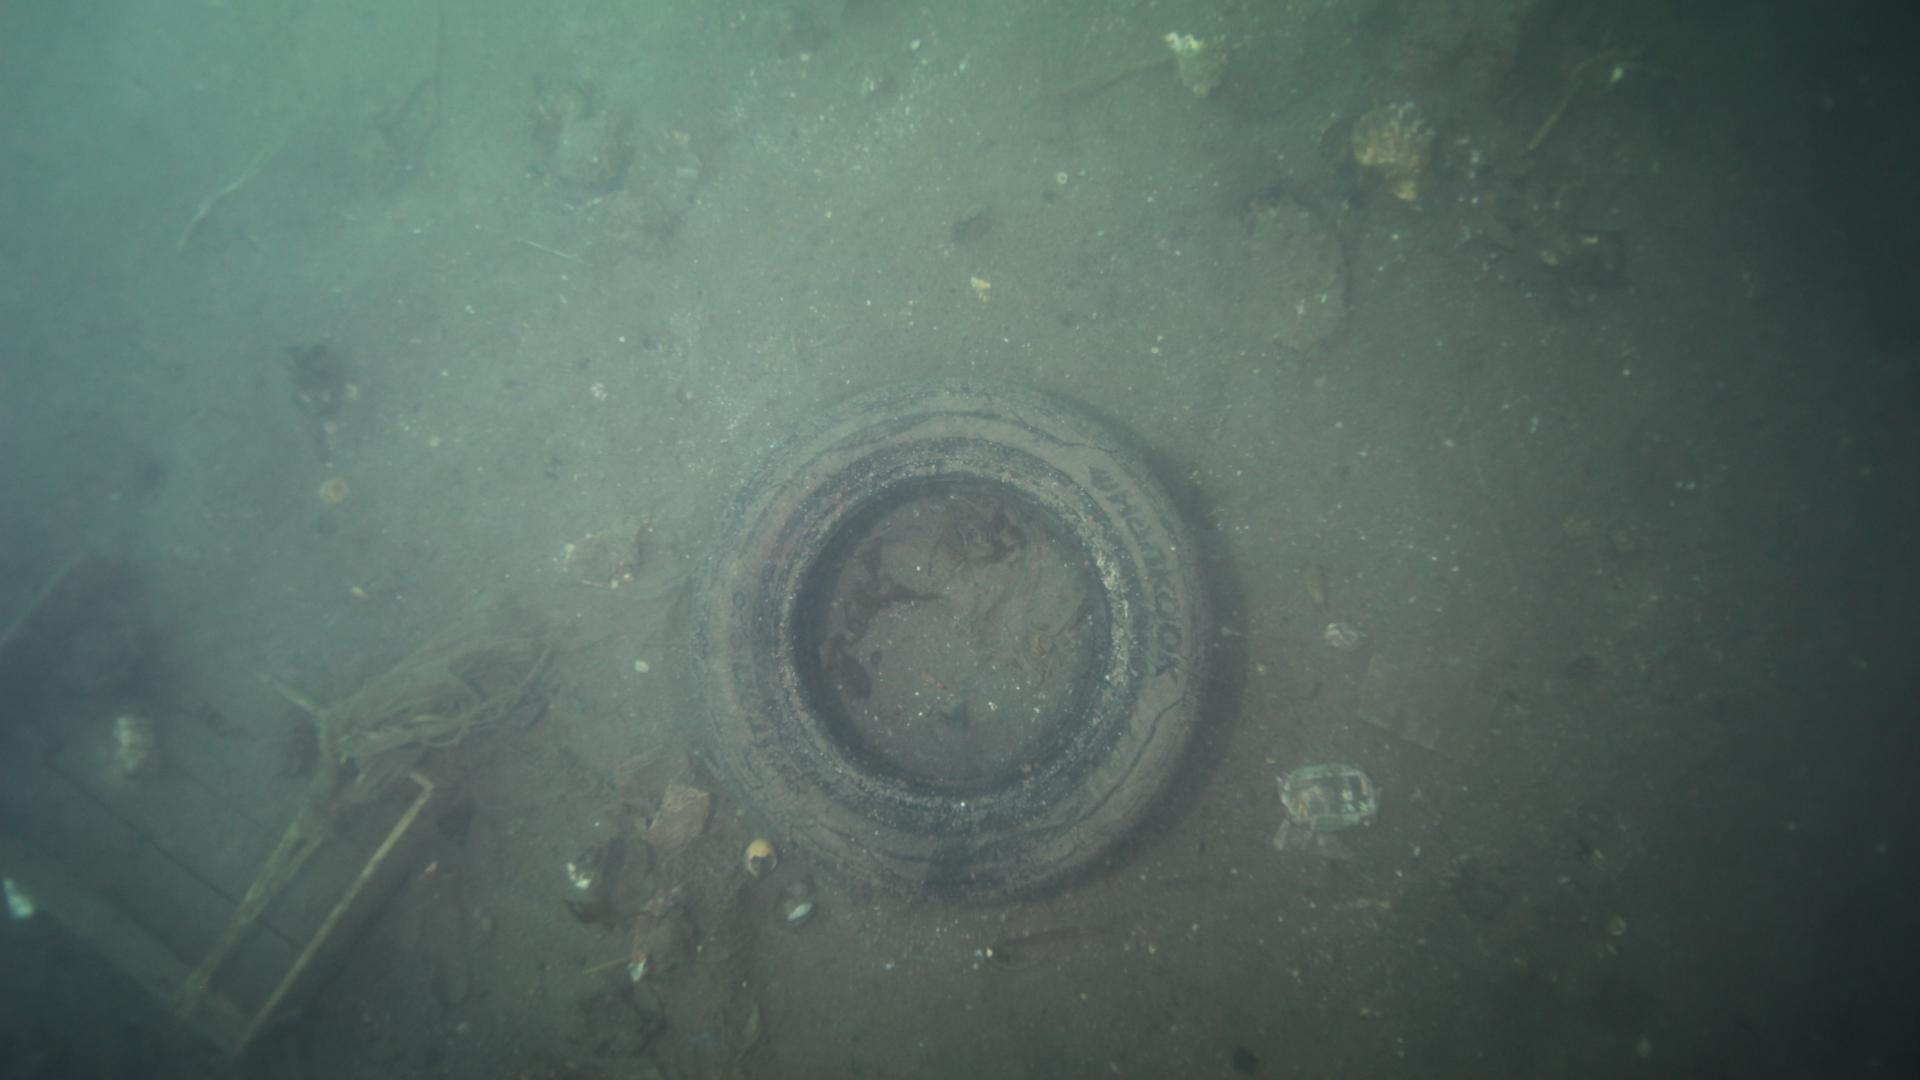tire: (686, 375, 1221, 913)
